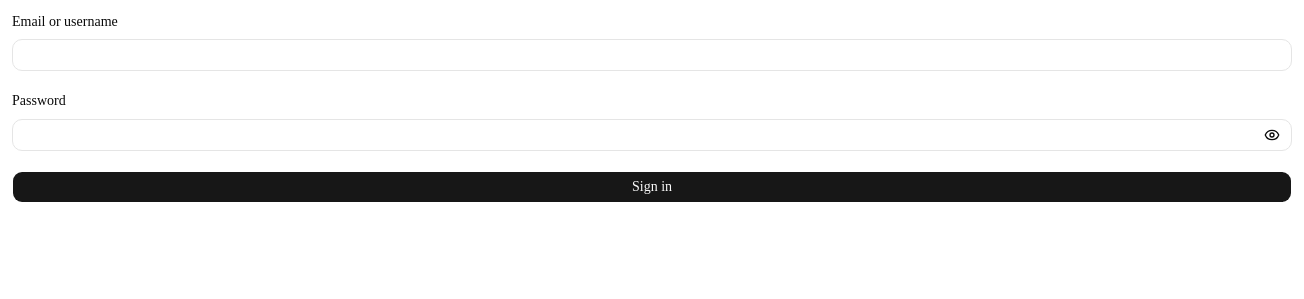
Test case: LoginForm › shows an unsupported-MFA message for an mfa_required error code
In the field labelled "Email or username": (652, 55) [12,39,1292,71], type "mfa.user@example.com"
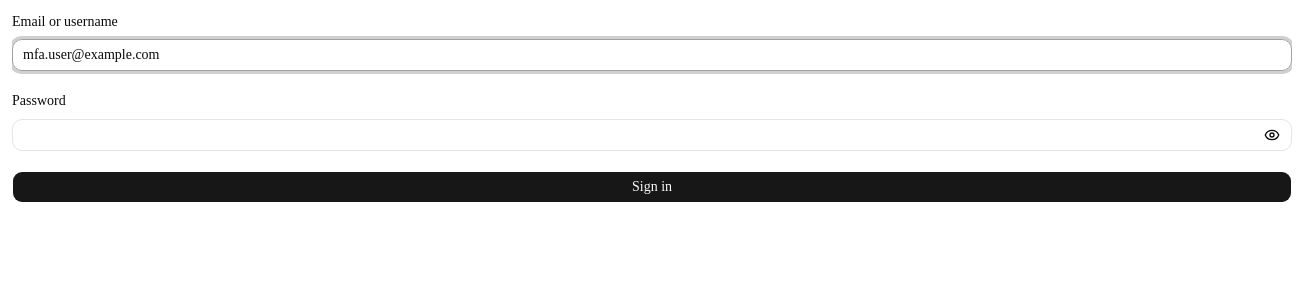
In the password field labelled "Password": (652, 134) [12,118,1292,150], type "correct-horse-battery-staple"
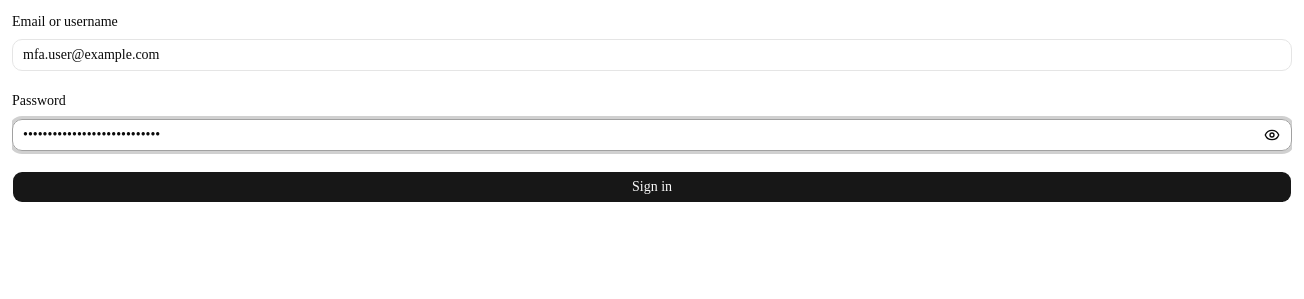
Click the button "Sign in": (652, 186) [12,170,1292,202]
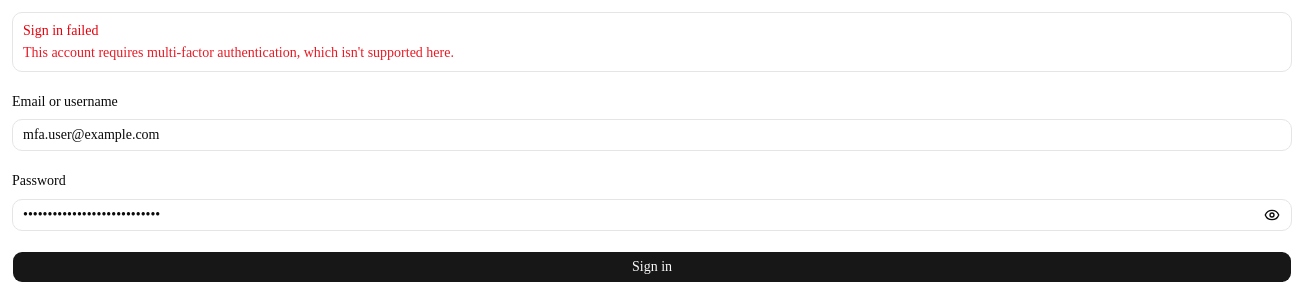
Expected: the text "This account requires multi-factor authentication, which isn't supported here." is shown, [23,45,454,60]
